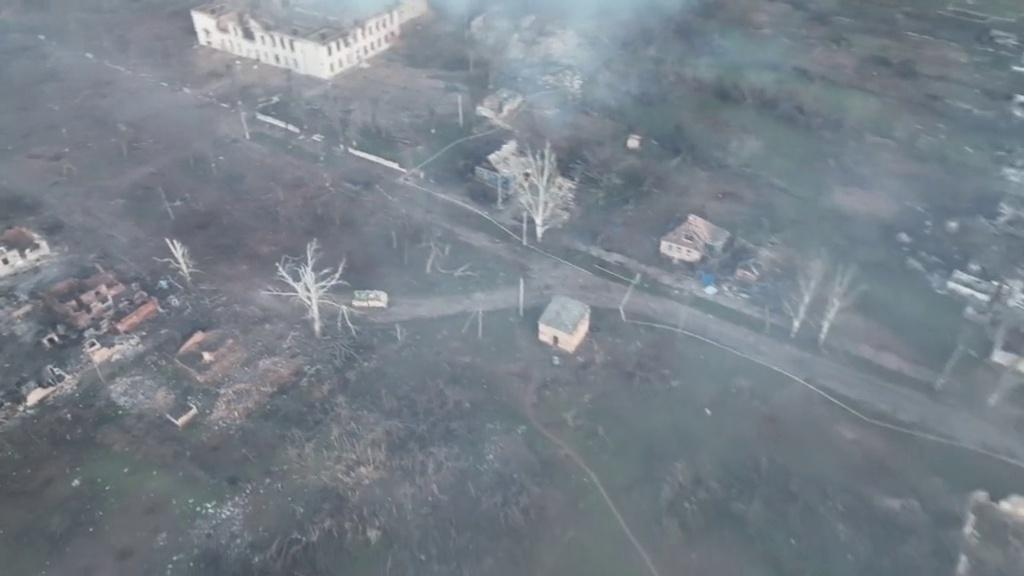vehicle: (351, 284, 389, 314)
